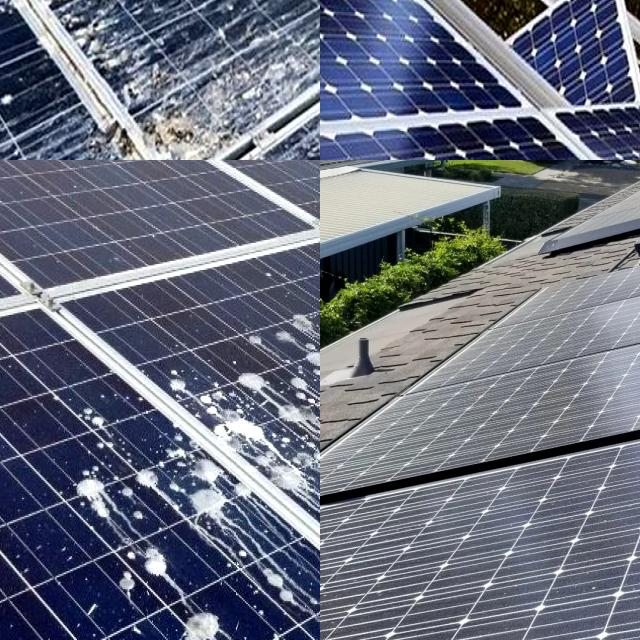bird: (124, 87, 233, 160), (256, 305, 320, 423), (65, 0, 131, 93), (63, 458, 141, 528), (218, 426, 306, 484), (162, 349, 227, 418), (113, 540, 186, 592), (66, 393, 133, 448), (240, 39, 320, 83), (178, 603, 271, 640), (170, 468, 220, 536), (252, 554, 308, 606), (0, 0, 49, 33), (0, 78, 29, 117)
crack: (320, 112, 640, 160)
